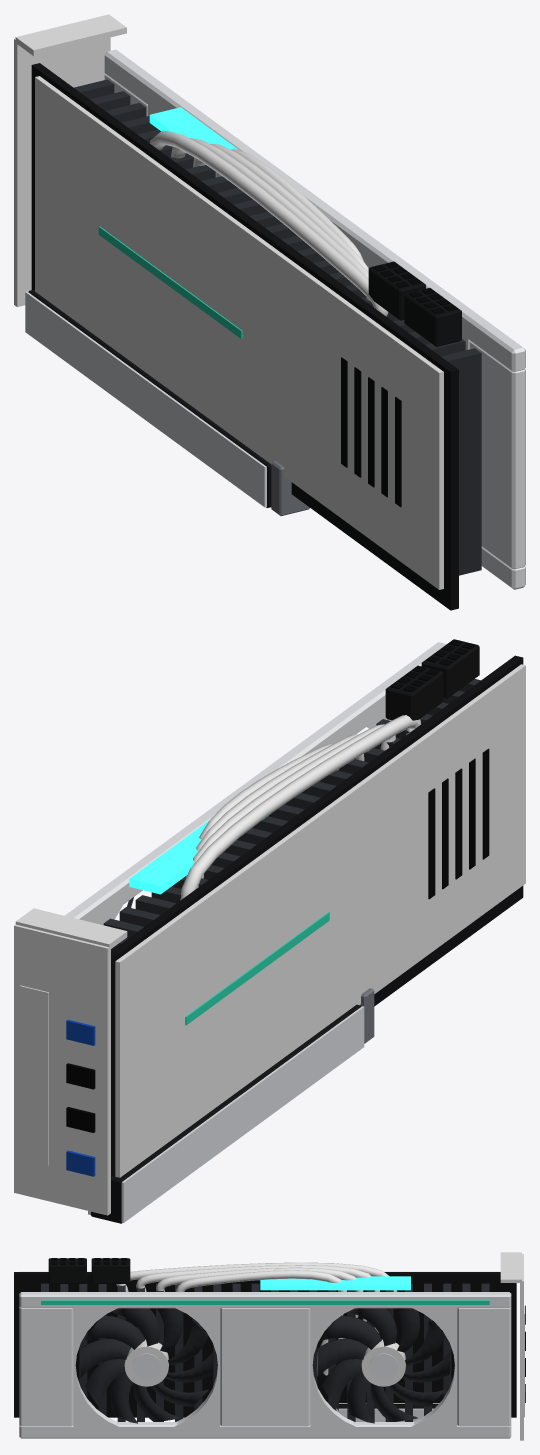
File: hwm_gpu_rtx4070ti.glb
3 renders of one model, top to bottom at view 1: azimuth 30°, elevation 25°; view 2: azimuth 150°, elevation 25°; view 3: azimuth 270°, elevation 25°, orthographic. The views are drawn at different scales.
Visible parts, largest first — view 1: Card_0, Slot_0; view 2: Card_0, Slot_0; view 3: Card_0, Rotor_X_0, Rotor_X_1, Slot_0.
Part boxes in pixels (x1,y1,x2,y2): Card_0: (14,14,525,610); Slot_0: (25,289,309,516); Card_0: (14,639,525,1215); Slot_0: (88,988,374,1223); Card_0: (14,1252,525,1440); Rotor_X_0: (317,1308,449,1423); Rotor_X_1: (80,1308,212,1423); Slot_0: (336,1404,438,1421).
Bounding box in the file's own units: 0.0376 × 0.1076 × 0.2852.
